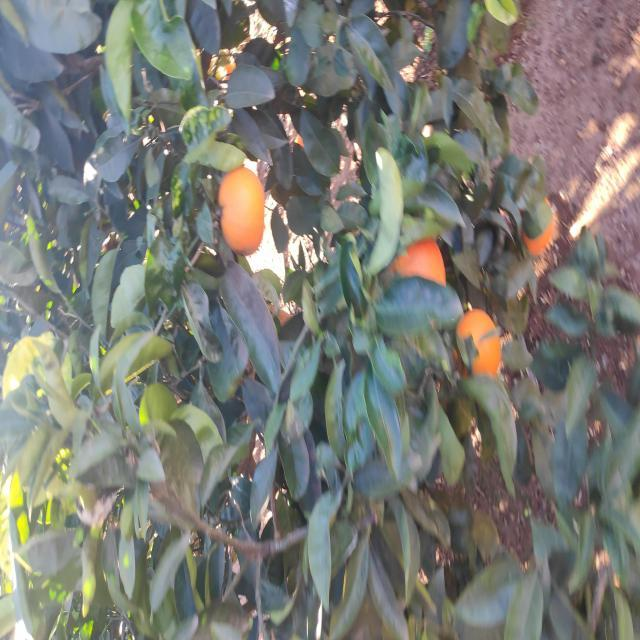Jeruk Sudah Matang: (383, 218, 474, 264), (351, 388, 401, 444)
